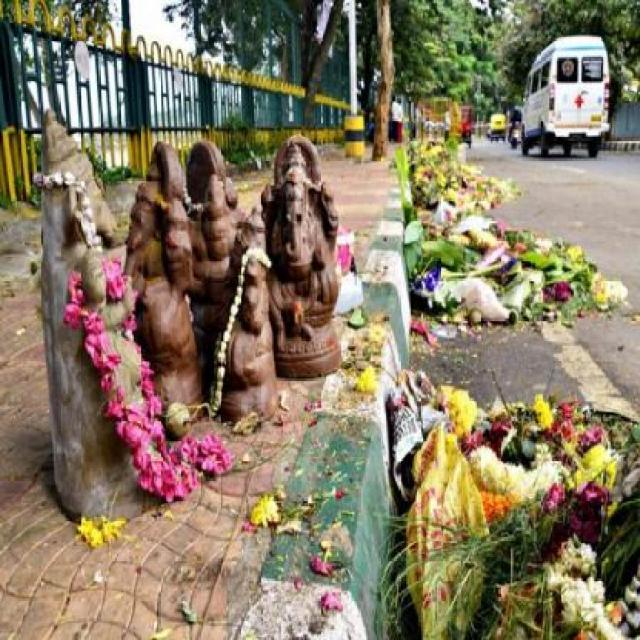garbage: (391, 357, 635, 637), (393, 127, 640, 326), (248, 482, 358, 579), (345, 314, 383, 387), (77, 514, 127, 541)
